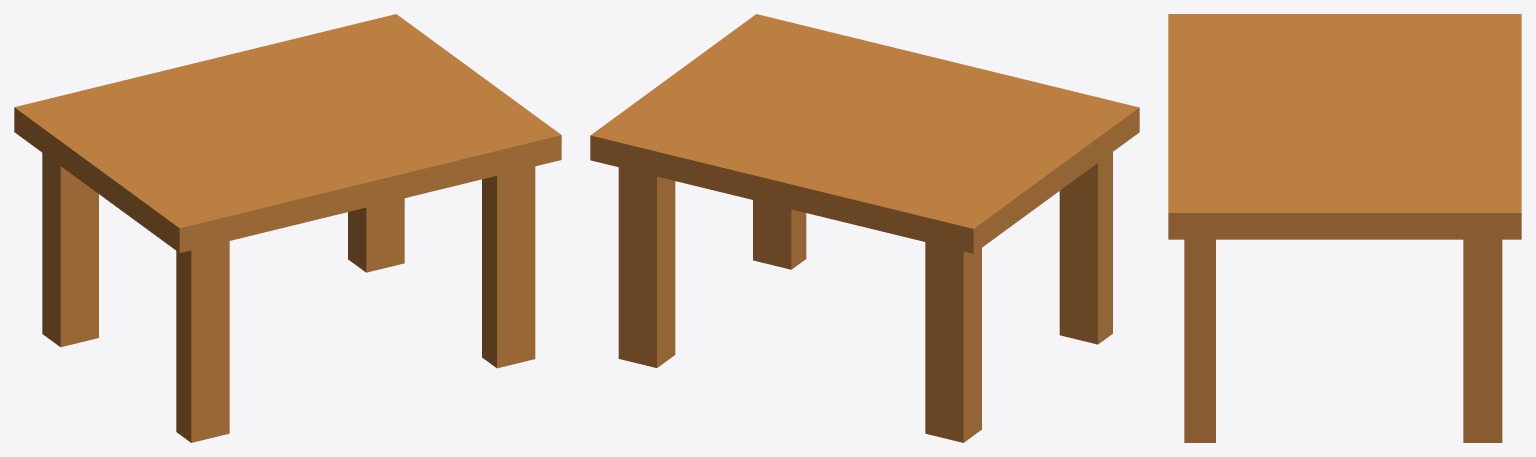
Rendered from table_simple.fbx.
3 renders of one model, left to right at view 1: azimuth 30°, elevation 25°; view 2: azimuth 150°, elevation 25°; view 3: azimuth 270°, elevation 25°, orthographic. The views are drawn at different scales.
Parts seen in each view (by area): view 1: Cube; view 2: Cube; view 3: Cube.
Part boxes in pixels (x1,y1,x2,y2): Cube: [14, 14, 561, 442]; Cube: [590, 14, 1139, 442]; Cube: [1168, 14, 1521, 442].
Bounding box in the file's own units: 961 × 540 × 721.
